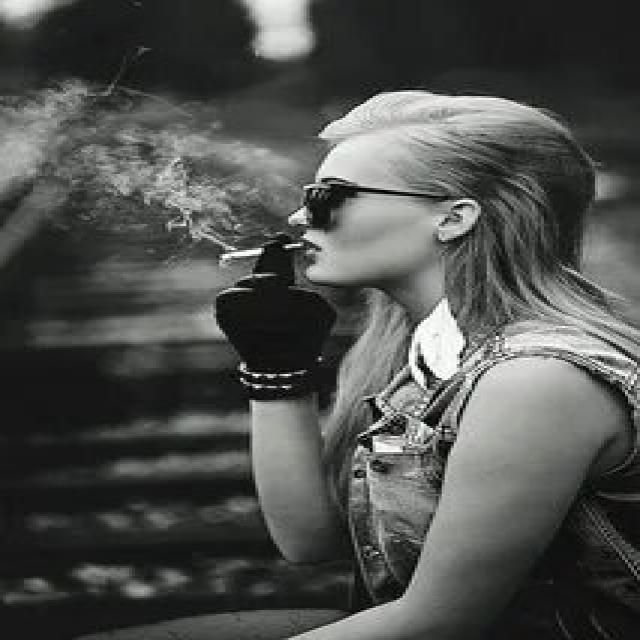cigarette: (217, 236, 316, 262)
